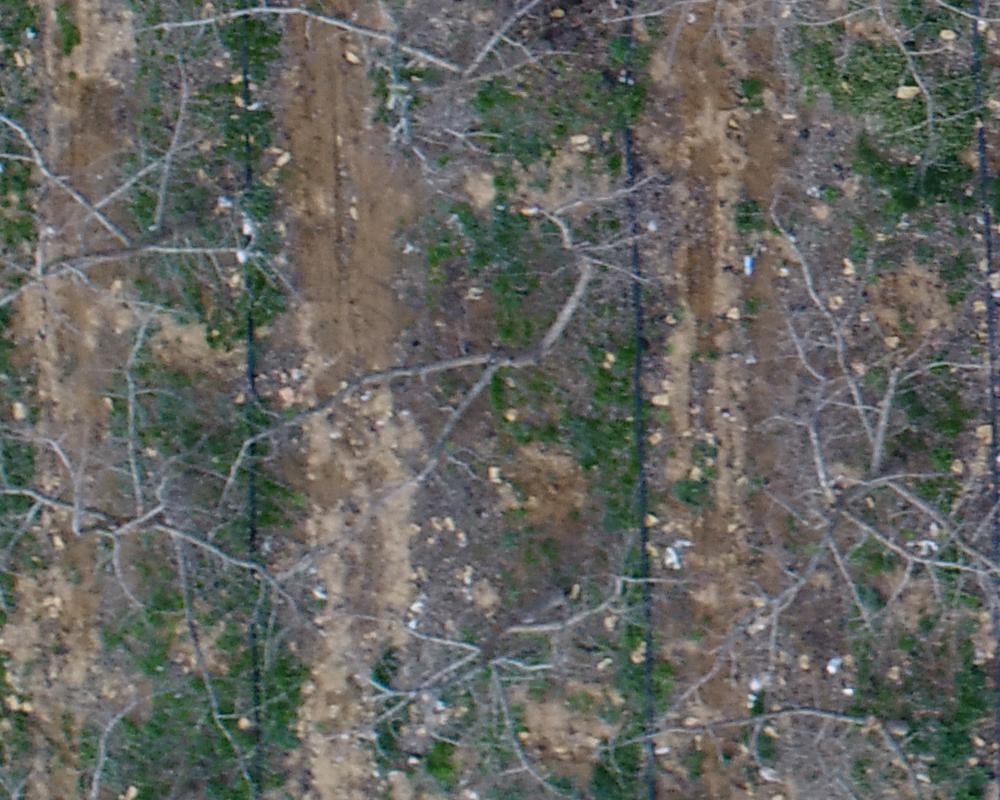apple: (10, 303, 328, 790), (253, 176, 700, 478), (745, 182, 990, 660), (10, 68, 323, 401), (332, 530, 678, 790), (127, 10, 641, 144), (608, 632, 990, 790)
